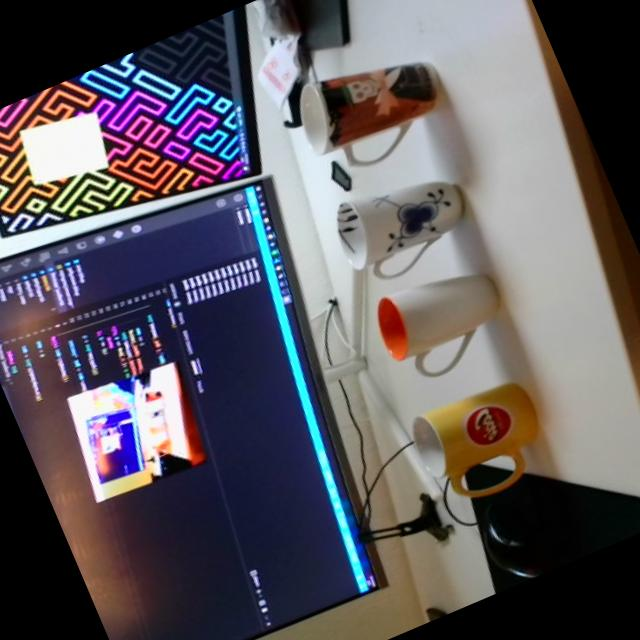Cocio Cup: (402, 370, 562, 518)
Halloween cup: (286, 35, 457, 186)
Hand painted cup: (322, 154, 482, 292)
White Cup: (366, 254, 522, 392)
